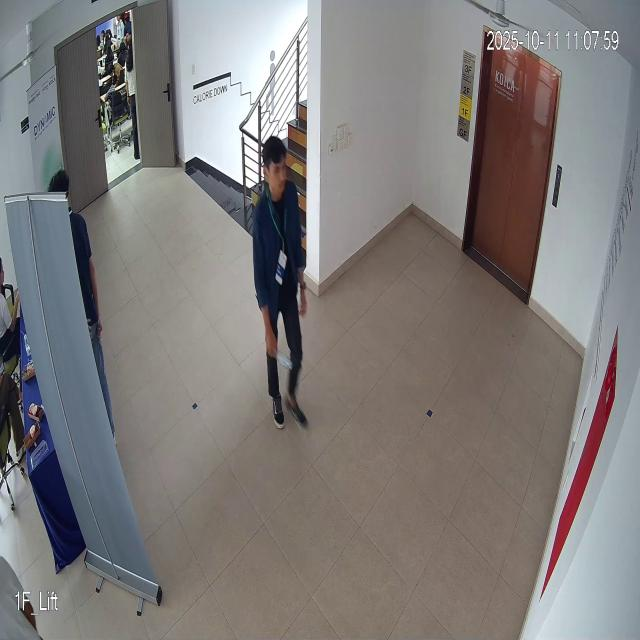face: (255, 128, 294, 202)
